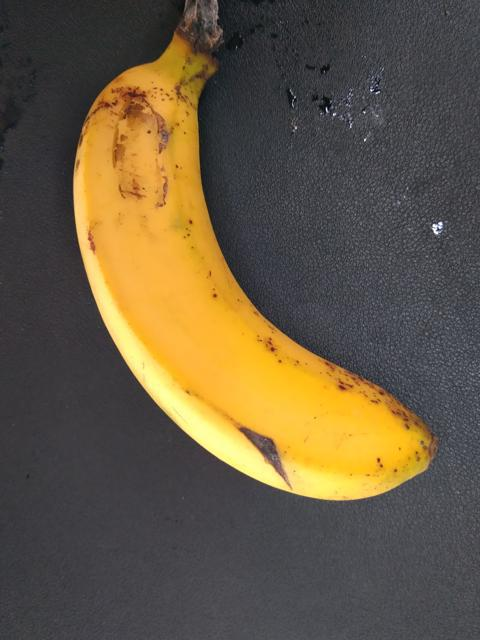ripe: (72, 60, 449, 507)
